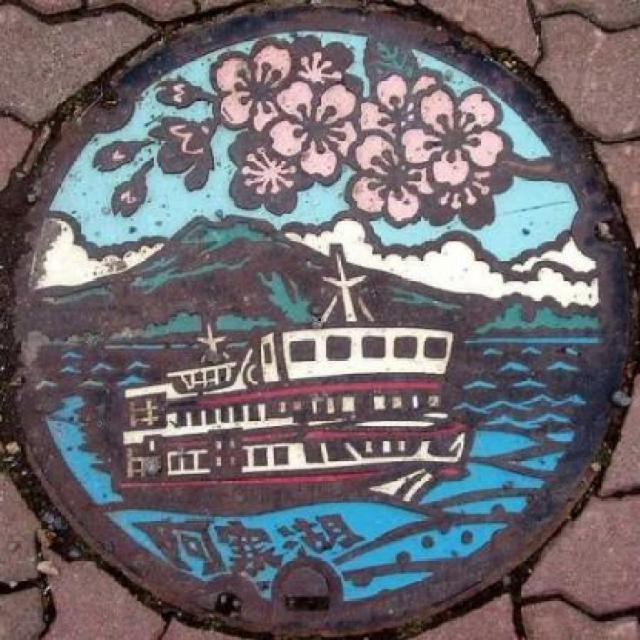Manhole: (6, 2, 637, 632)
